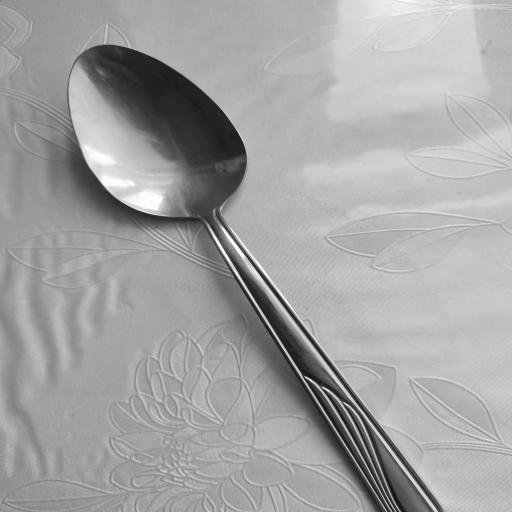spoon: (67, 40, 446, 512)
